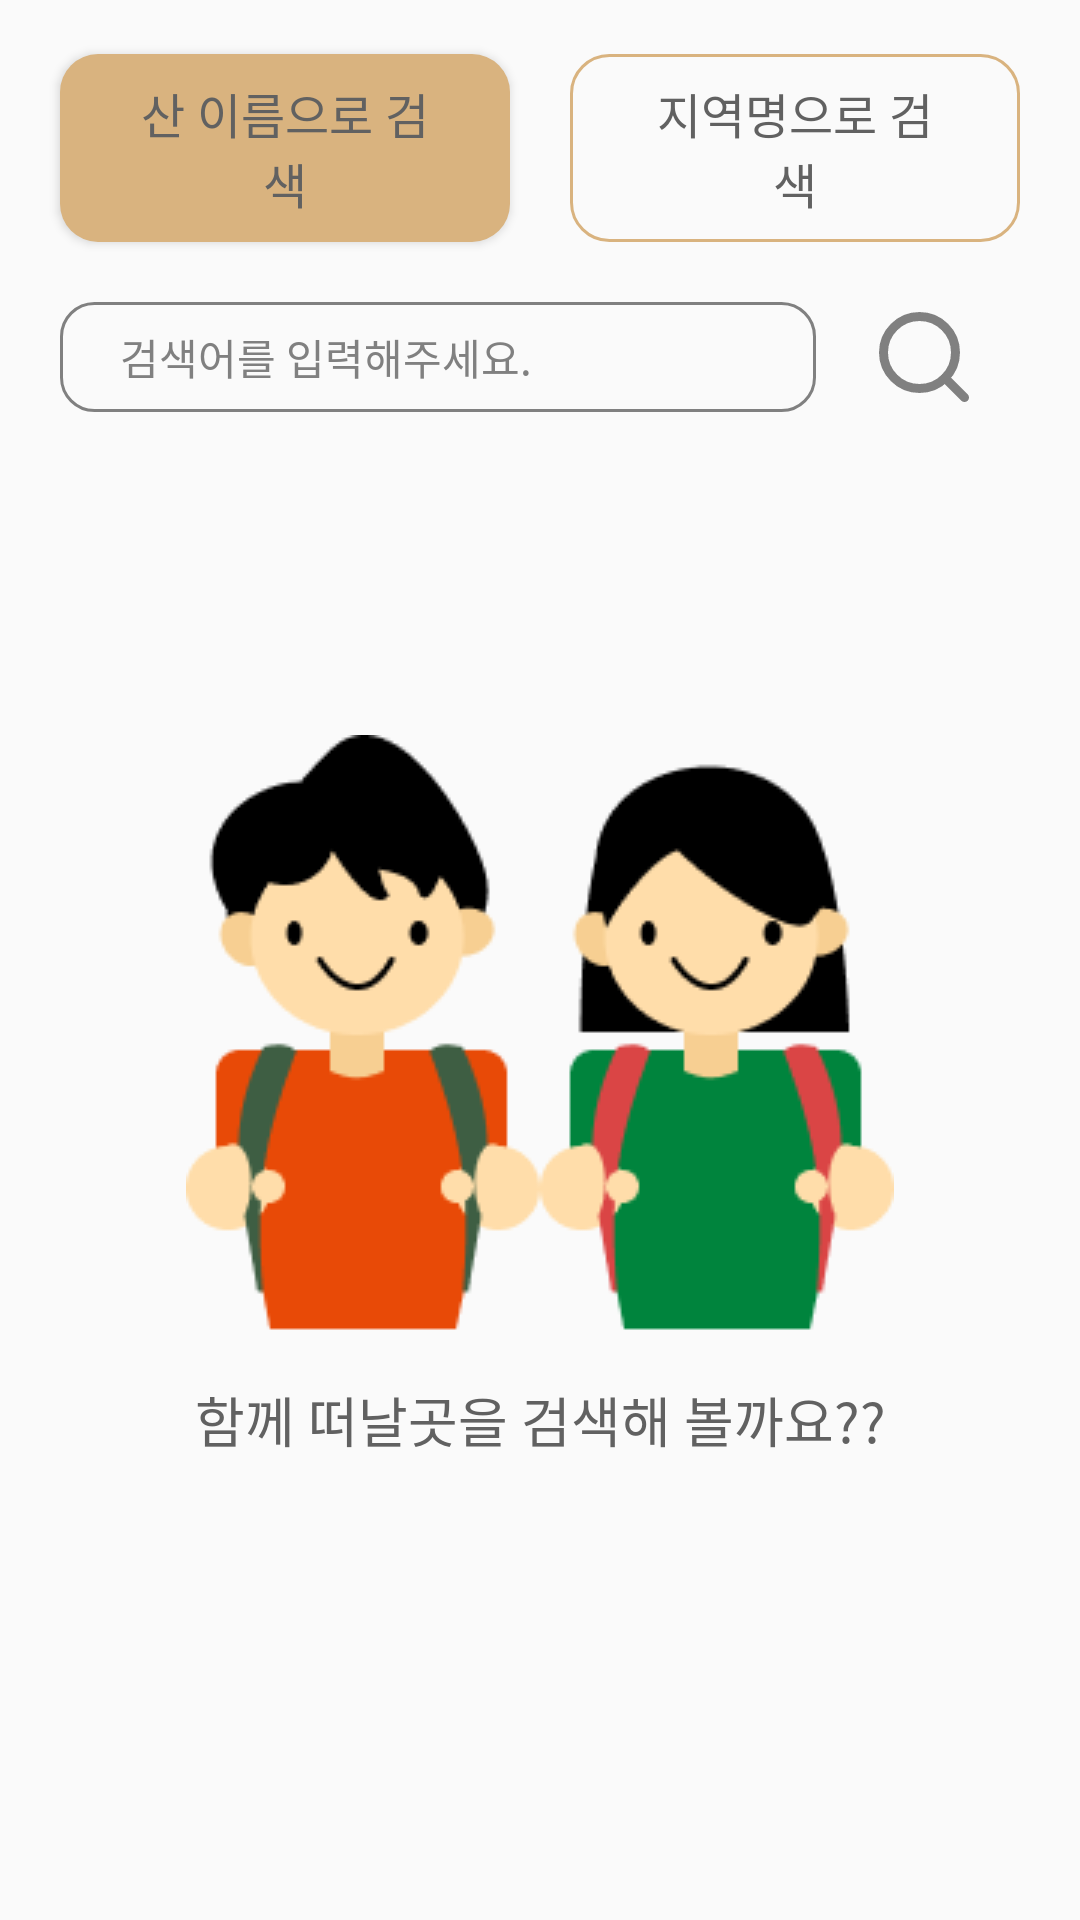

Locate icon controls on the screen. Image size 1080 × 1920, boxes as detection(x1, y1, x2, y2).
search: detection(879, 312, 969, 402)
